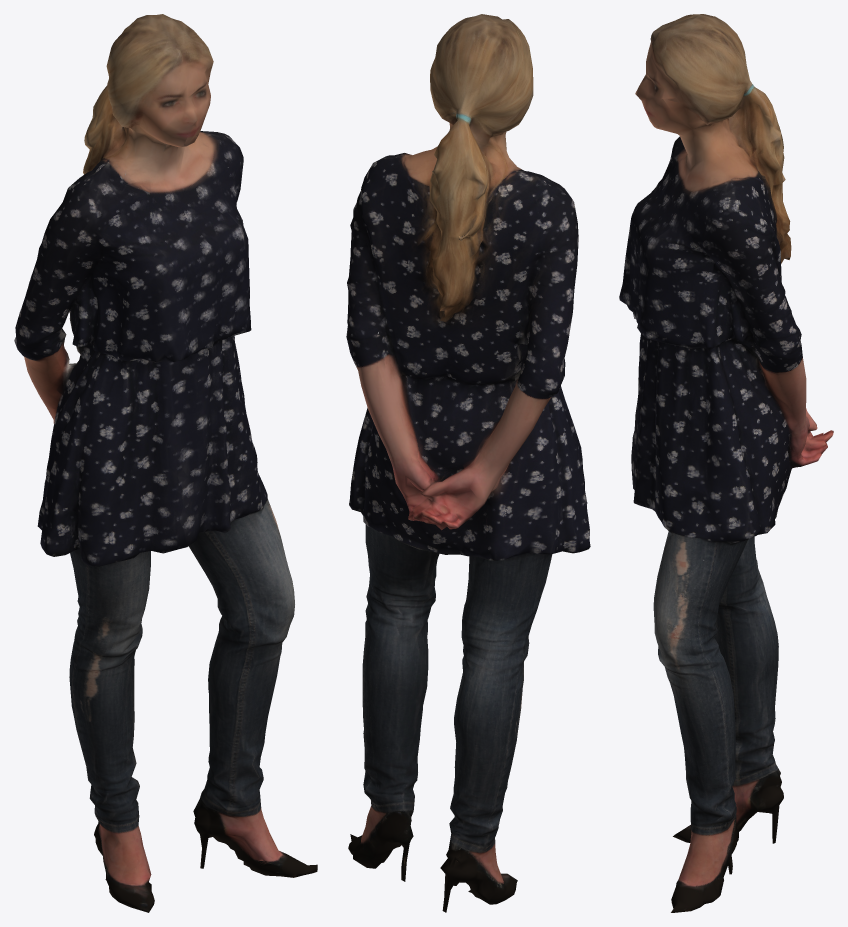
The model's file is mujer1.fbx.
3 renders of one model, left to right at view 1: azimuth 30°, elevation 25°; view 2: azimuth 150°, elevation 25°; view 3: azimuth 270°, elevation 25°, orthographic. The views are drawn at different scales.
Parts seen in each view (by area): view 1: D3D_P_LOW_1; view 2: D3D_P_LOW_1; view 3: D3D_P_LOW_1.
Boxes of the visible parts, left/top/right/bottom form: D3D_P_LOW_1: left=14, top=14, right=317, bottom=912; D3D_P_LOW_1: left=346, top=14, right=590, bottom=912; D3D_P_LOW_1: left=619, top=14, right=833, bottom=912.
Bounding box in the file's own units: 0.5178 × 1.69 × 0.3966.
